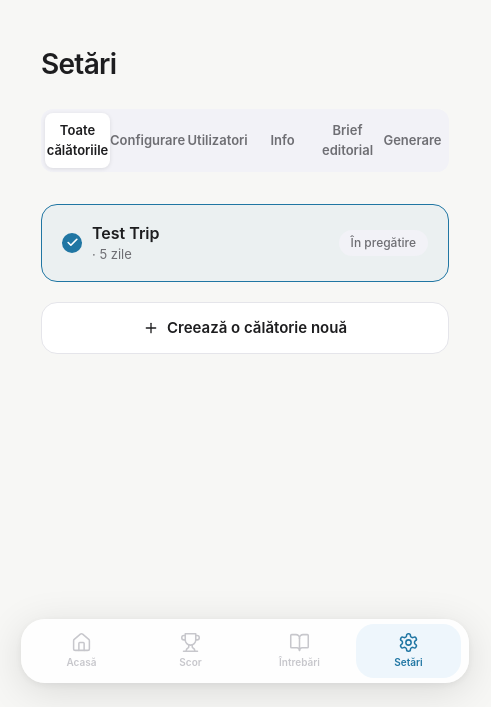
Test: R9: Generare tab -- starting generation › a successful generation shows a summary message with draft/rejected counts
Click the button "Generare".
click(412, 140)  # box left=380, top=113, right=445, bottom=168
(page scrolled)
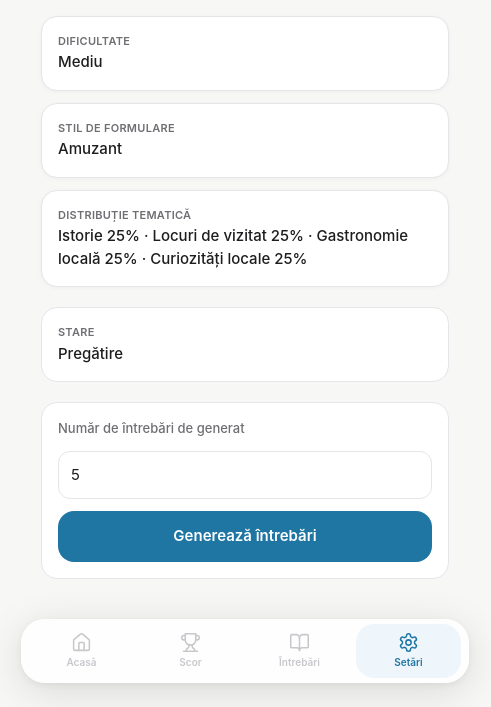
Click the button "Generează întrebări".
click(245, 536)  # box left=58, top=511, right=432, bottom=562
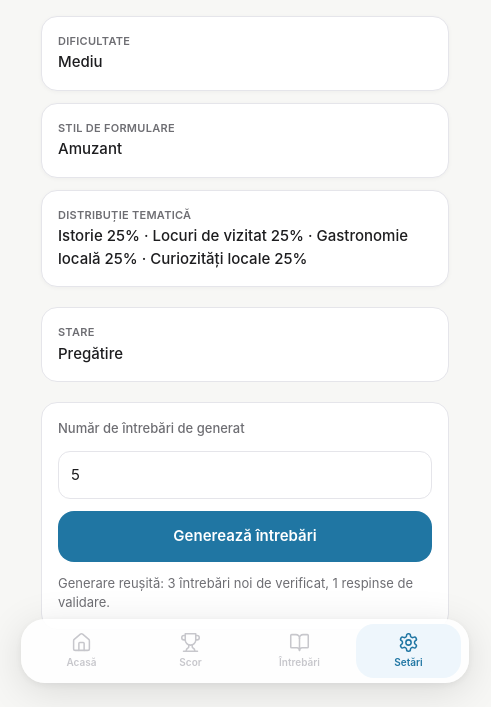
expect the text "1 respinse de validare" is shown: met, box left=58, top=574, right=413, bottom=610
